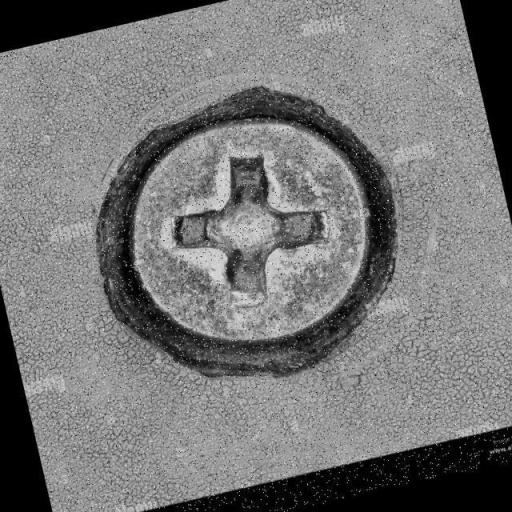Phillips: (114, 89, 386, 374)
